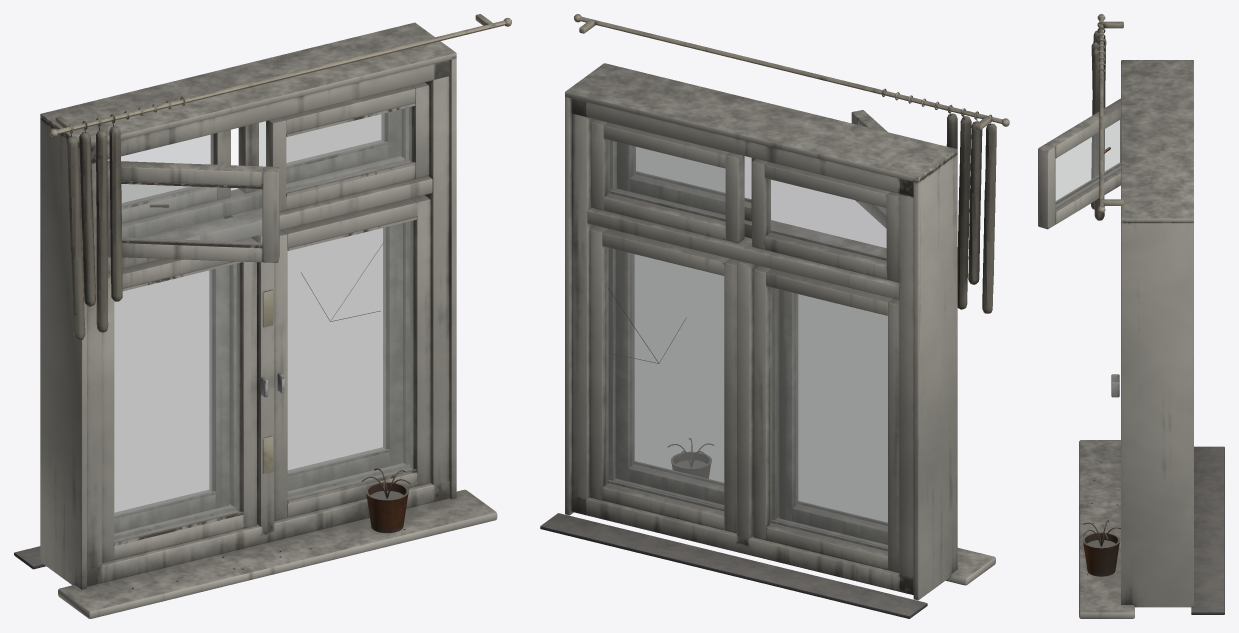
The model's file is SM_Window_DoubleFrame.fbx.
The picture shows the model from 3 angles, left to right: view 1: azimuth 30°, elevation 25°; view 2: azimuth 150°, elevation 25°; view 3: azimuth 270°, elevation 25°; orthographic projection. The views are drawn at different scales.
Visible parts, largest first — view 1: SM_Window_DoubleFrame; view 2: SM_Window_DoubleFrame; view 3: SM_Window_DoubleFrame.
Boxes of the visible parts, x1,y1,x2,y2 form: SM_Window_DoubleFrame: (14,14,511,618); SM_Window_DoubleFrame: (540,14,1009,618); SM_Window_DoubleFrame: (1038,14,1224,618).
Bounding box in the file's own units: 1.65 × 1.66 × 0.6659.
Materials: 2 (1 with a texture image).
